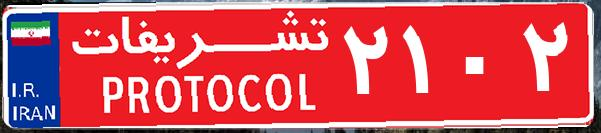0: (460, 20, 520, 115)
1: (400, 20, 460, 115)
2: (340, 20, 400, 115), (520, 20, 580, 115)
تشریفات: (60, 8, 340, 125)
